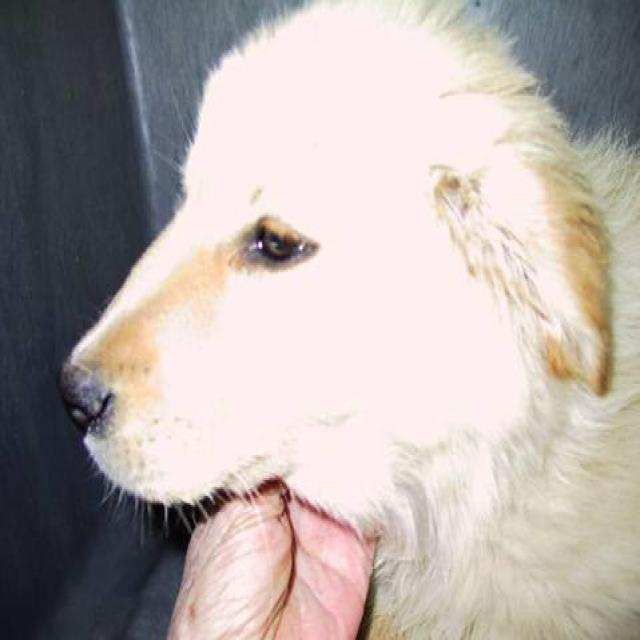dog: (56, 0, 639, 638)
